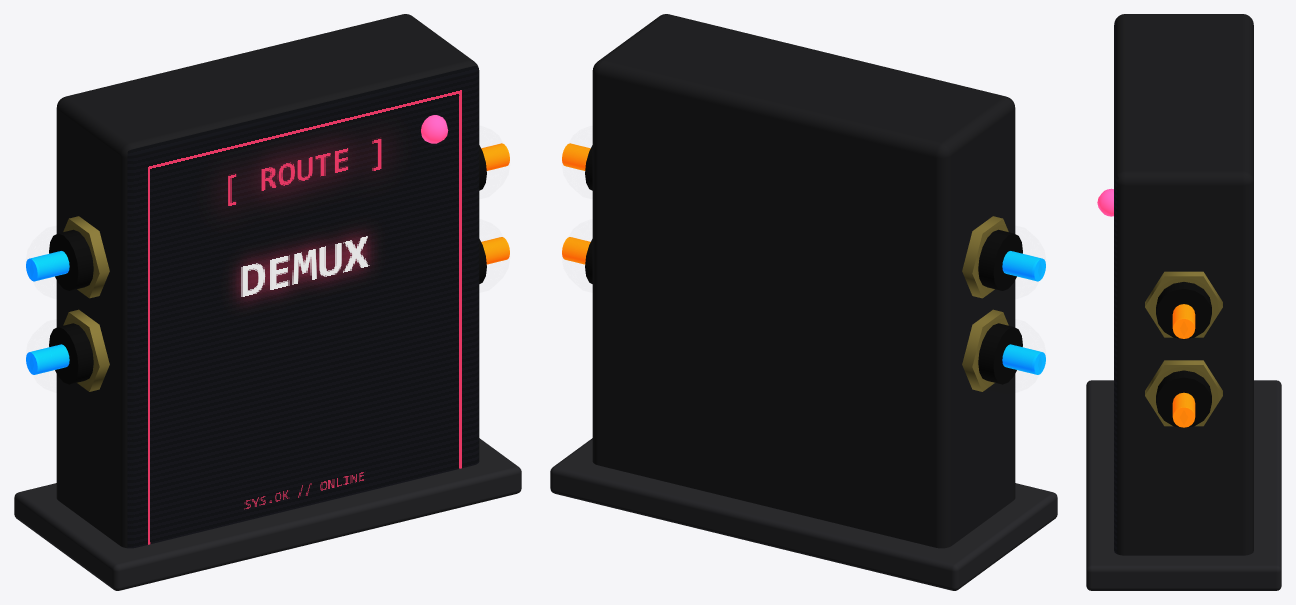
Rendered from route_demux.glb.
3 renders of one model, left to right at view 1: azimuth 30°, elevation 25°; view 2: azimuth 150°, elevation 25°; view 3: azimuth 270°, elevation 25°, orthographic. The views are drawn at different scales.
Visible parts, largest first — view 1: chassis, bracket, socket (×2), hex_nut (×2), pin (×2); view 2: chassis, bracket, socket (×2), hex_nut (×2), pin (×2); view 3: chassis, bracket, socket (×2), hex_nut (×2), pin (×2), status_led.
Part boxes in pixels (x1=…): chassis: x1=56, y1=14, x2=479, y2=548; bracket: x1=14, y1=438, x2=521, y2=590; socket (×2): x1=49, y1=229, x2=93, y2=384; hex_nut (×2): x1=63, y1=216, x2=109, y2=391; pin (×2): x1=26, y1=251, x2=69, y2=374; chassis: x1=592, y1=14, x2=1015, y2=548; bracket: x1=550, y1=438, x2=1057, y2=590; socket (×2): x1=978, y1=229, x2=1022, y2=384; hex_nut (×2): x1=962, y1=216, x2=1008, y2=391; pin (×2): x1=1002, y1=251, x2=1045, y2=374; chassis: x1=1114, y1=14, x2=1253, y2=555; bracket: x1=1086, y1=380, x2=1281, y2=590; socket (×2): x1=1156, y1=282, x2=1211, y2=427; hex_nut (×2): x1=1145, y1=271, x2=1222, y2=426; pin (×2): x1=1172, y1=304, x2=1195, y2=427; status_led: x1=1097, y1=188, x2=1113, y2=216.
Bounding box in the file's own units: 1.86 × 1.6 × 0.7.
12 materials, 1 textured.
